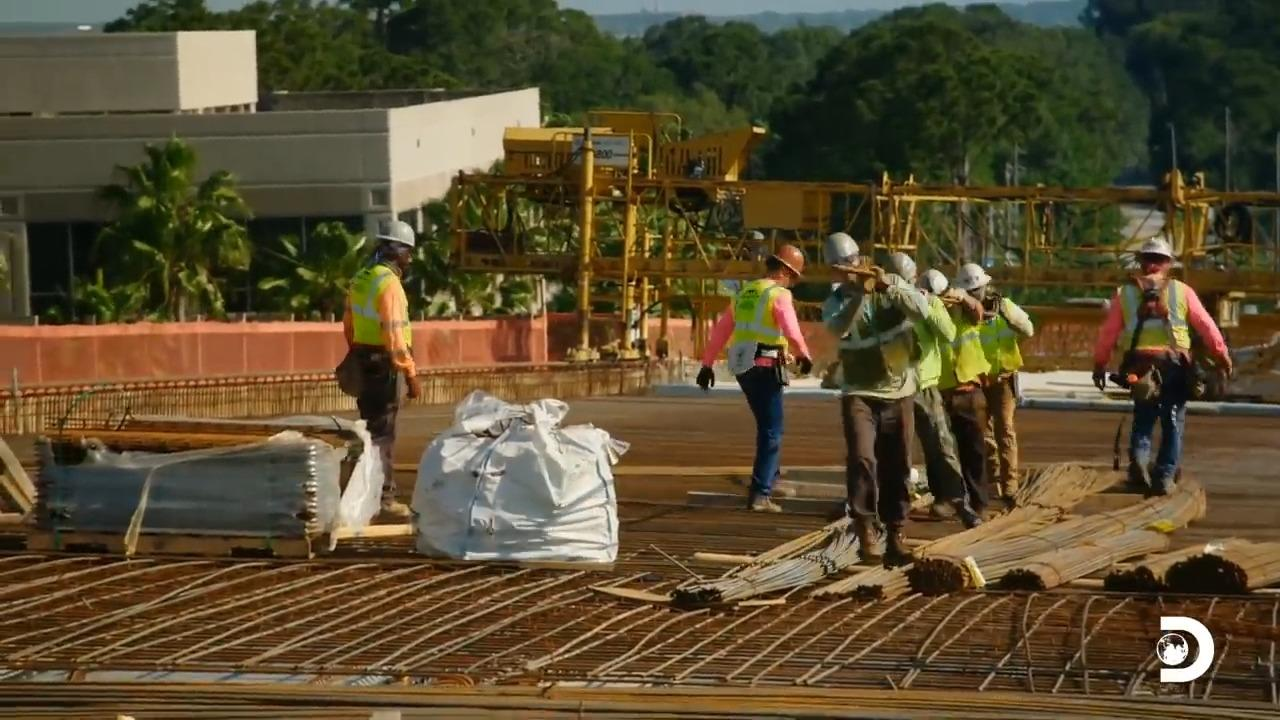Gloves: (695, 364, 721, 393), (1215, 356, 1237, 384), (795, 347, 814, 377), (1087, 369, 1111, 392)
Helmet: (879, 250, 921, 284), (822, 231, 860, 265), (766, 243, 804, 276), (950, 262, 991, 291), (919, 267, 954, 300), (374, 219, 415, 247), (1138, 237, 1173, 261)
Person: (814, 231, 929, 569), (1091, 235, 1233, 495), (696, 243, 813, 513), (337, 218, 422, 517)
Safety Boot: (882, 538, 918, 562), (855, 530, 876, 563)
Safety Vest: (838, 301, 912, 387), (346, 281, 406, 356), (1120, 287, 1189, 346), (730, 295, 779, 364), (980, 316, 1017, 380), (945, 314, 976, 383)
bare-arms: (404, 379, 424, 406)
